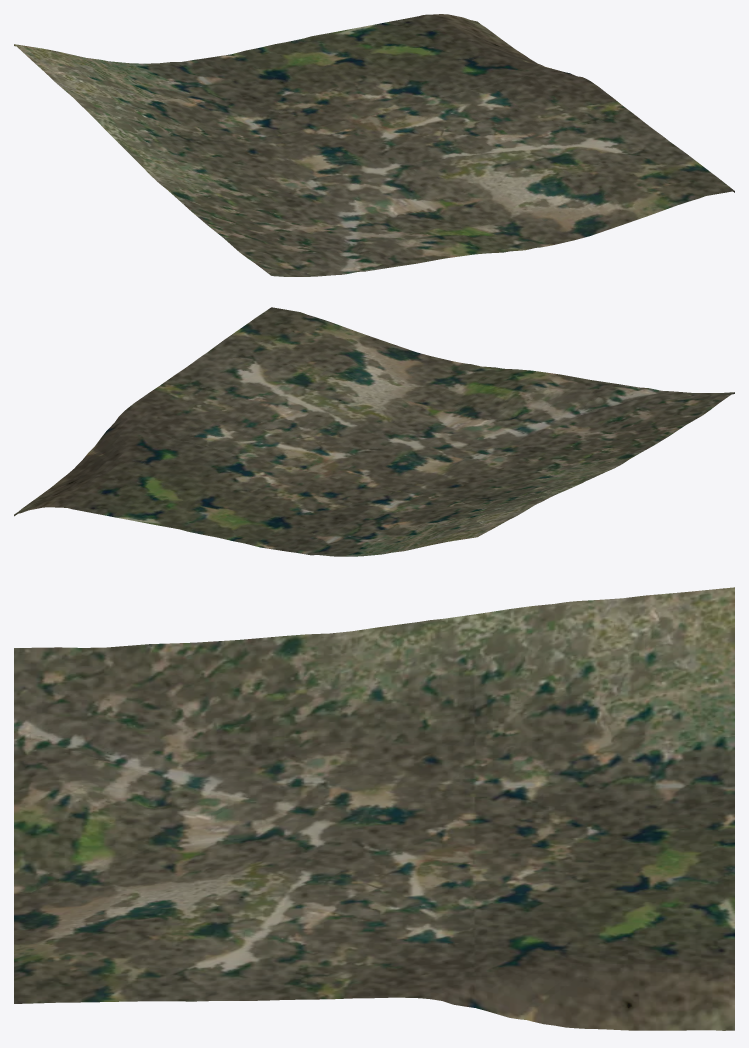
The picture shows the model from 3 angles, top to bottom: view 1: azimuth 30°, elevation 25°; view 2: azimuth 150°, elevation 25°; view 3: azimuth 270°, elevation 25°; orthographic projection. The views are drawn at different scales.
Bounding box in the file's own units: 250 × 47.75 × 241.
1 material, 1 textured.
